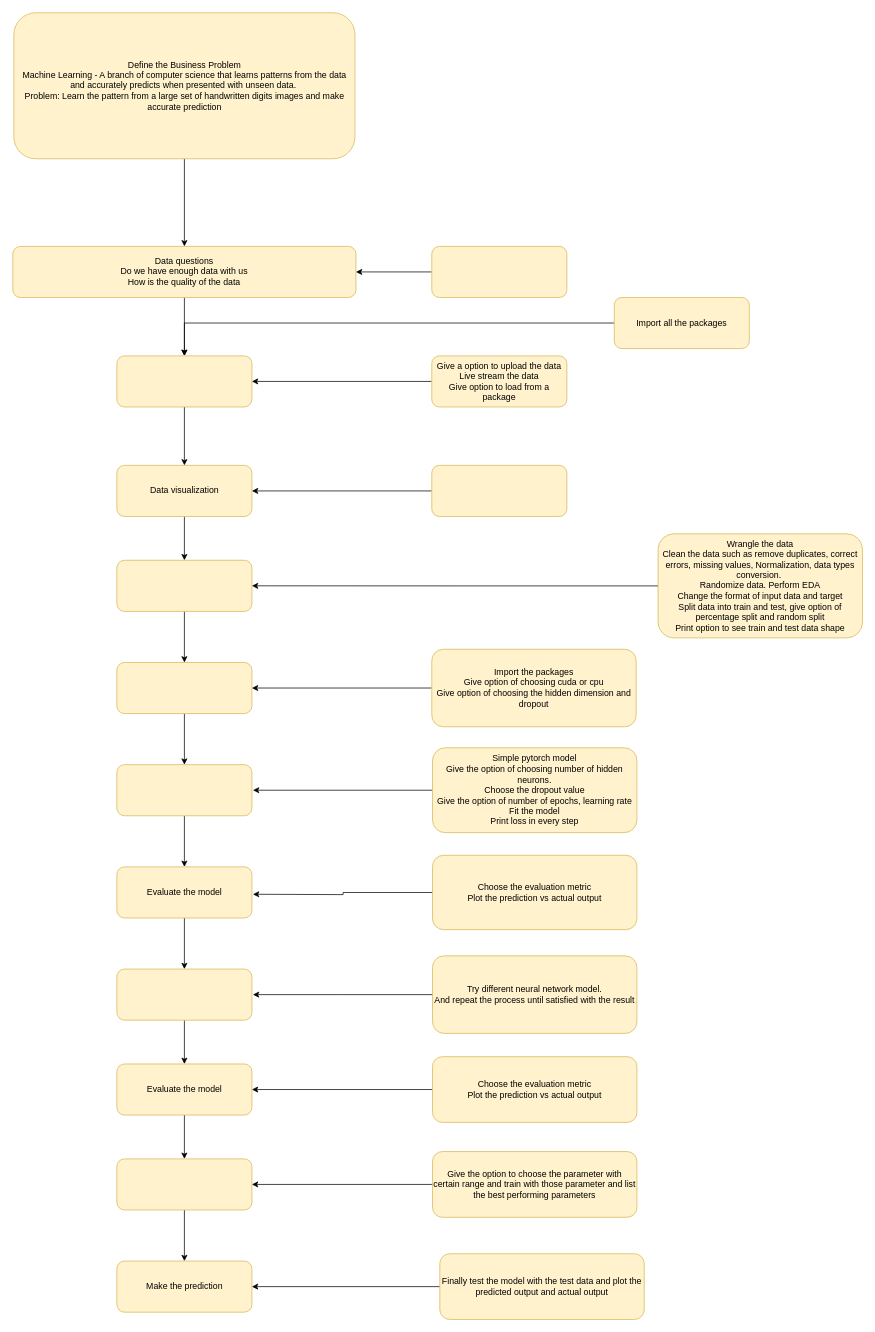
Image size: 875x1332. Some labels were removed from this diagram. The box of each missing label's shape, as (x1, y1, x2, y2) in pixels:
Choosing the model: (116, 662, 252, 714)
Data collection: (116, 355, 252, 407)
Data Preparation: (116, 560, 252, 611)
Parameter tuning: (116, 1158, 252, 1210)
Plot the sample data using matplotlib library: (431, 465, 567, 516)
Question and answer: (431, 246, 567, 297)
Training the model: (116, 764, 252, 816)
Try different model: (116, 968, 252, 1020)
